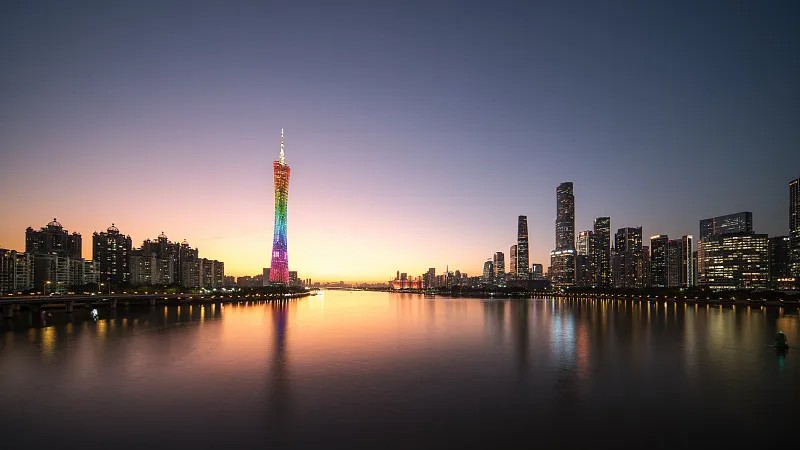Canton: (268, 127, 292, 286)
